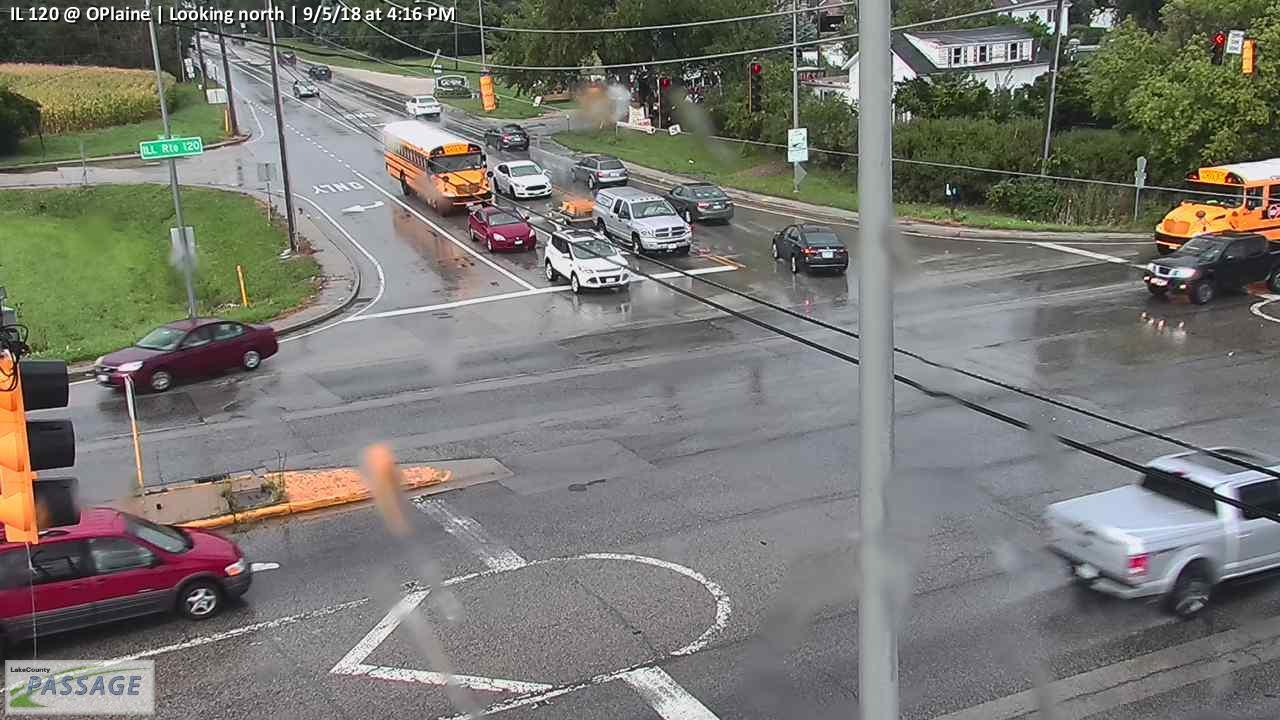SUV: (1, 509, 257, 654), (591, 184, 693, 258), (543, 230, 632, 292), (569, 154, 630, 189), (483, 121, 530, 151)
Sedan: (92, 316, 279, 395), (770, 222, 849, 275), (468, 205, 538, 254), (663, 182, 735, 225), (492, 159, 553, 199), (404, 94, 441, 117)
Truck: (1041, 444, 1280, 622), (380, 118, 493, 216), (1144, 232, 1280, 308), (293, 78, 320, 97), (308, 65, 332, 81)
